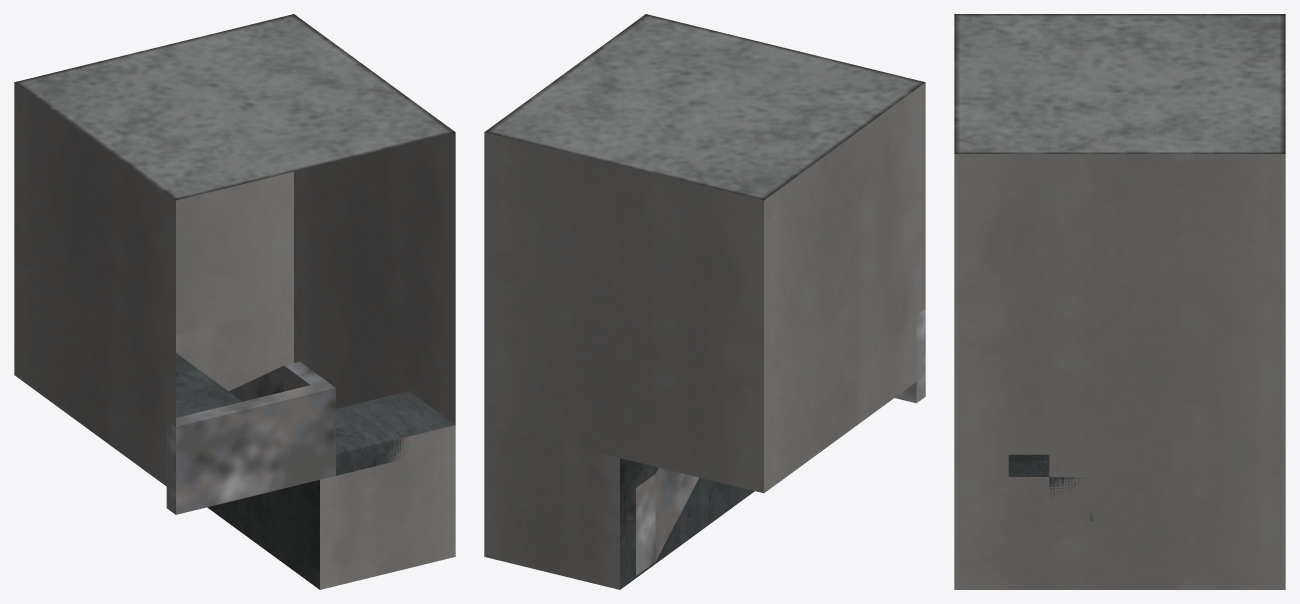
Rendered from h-stairs-down.fbx.
3 renders of one model, left to right at view 1: azimuth 30°, elevation 25°; view 2: azimuth 150°, elevation 25°; view 3: azimuth 270°, elevation 25°, orthographic. The views are drawn at different scales.
Parts seen in each view (by area): view 1: Cube, Cube.004, Cube.006, Cube.001; view 2: Cube, Cube.004; view 3: Cube, Cube.001.
Boxes of the visible parts, x1=… form: Cube: x1=14, y1=14, x2=455, y2=589; Cube.004: x1=166, y1=361, x2=335, y2=514; Cube.006: x1=336, y1=405, x2=454, y2=475; Cube.001: x1=336, y1=391, x2=428, y2=428; Cube: x1=484, y1=14, x2=925, y2=589; Cube.004: x1=636, y1=309, x2=925, y2=575; Cube: x1=954, y1=14, x2=1285, y2=589; Cube.001: x1=1008, y1=454, x2=1097, y2=521.
Size of the model in its own units: 200 by 290 by 200.
